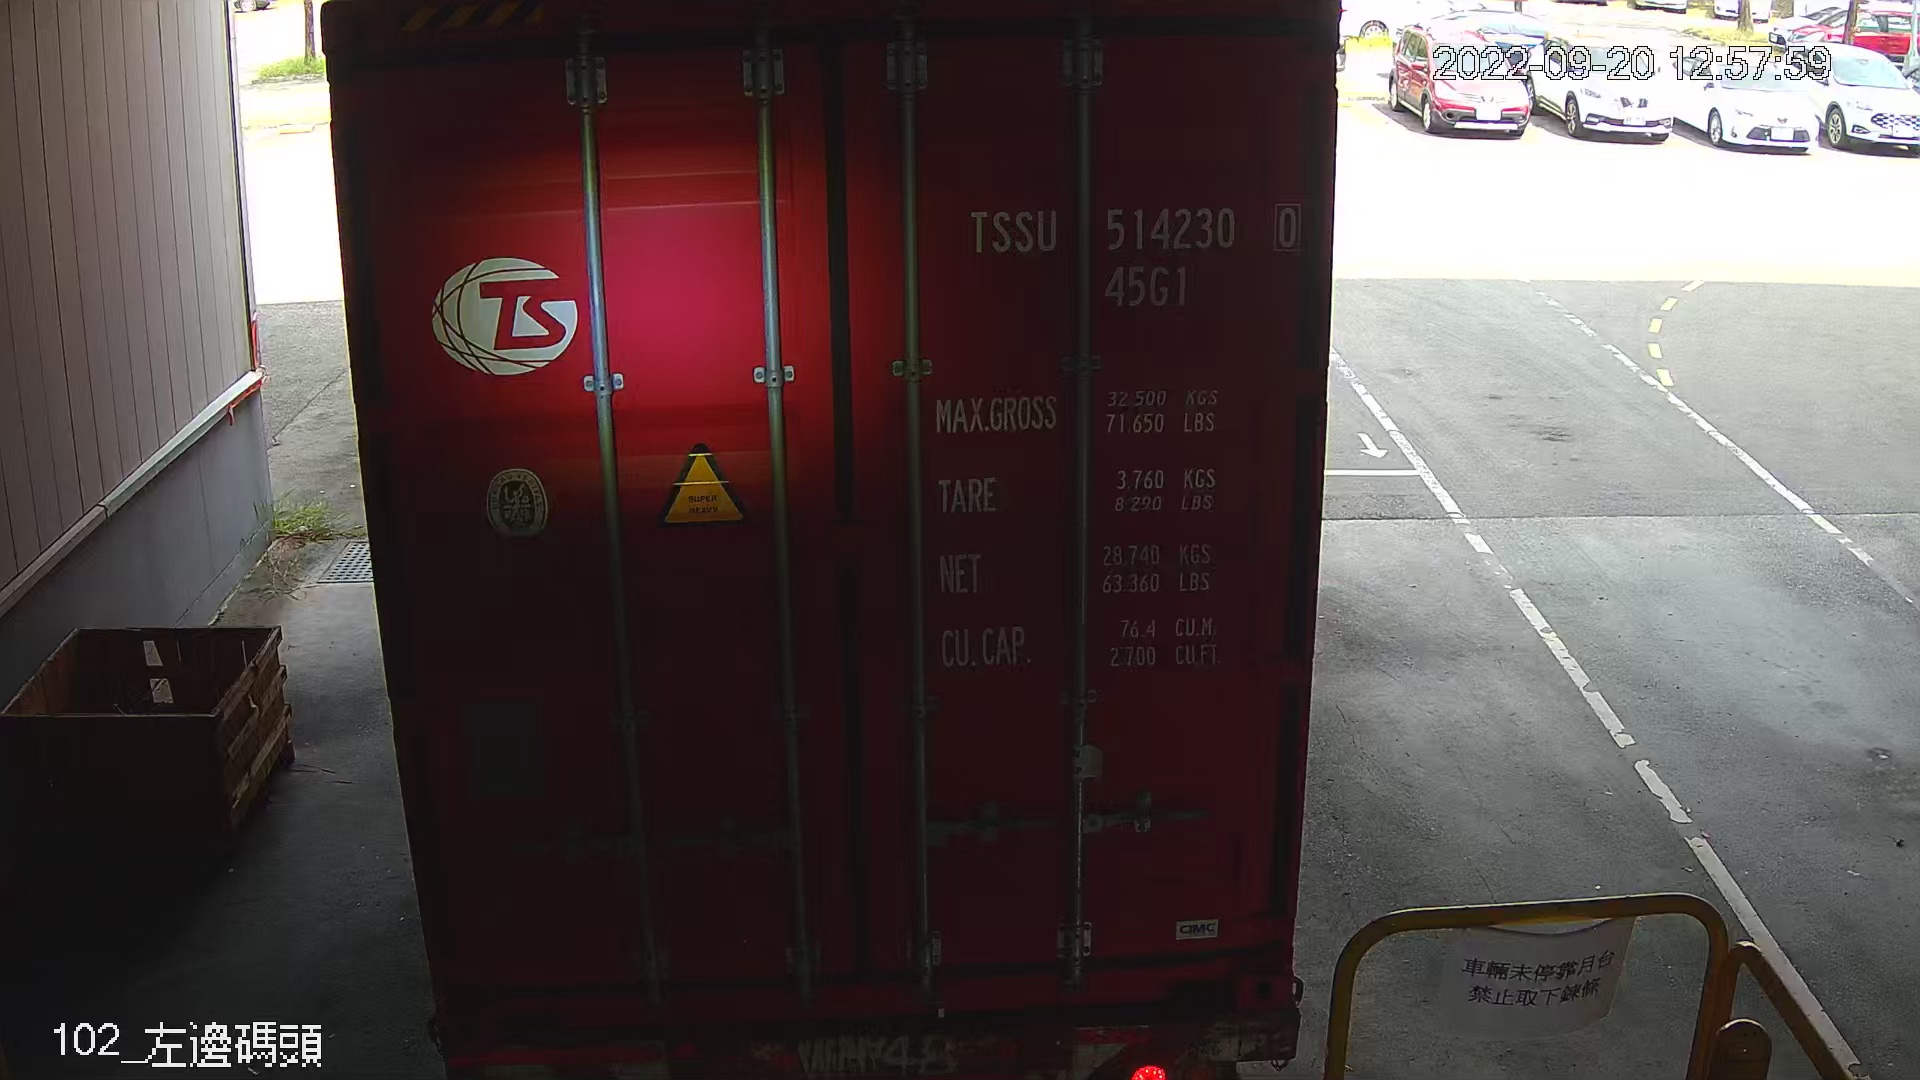container: (953, 193, 1313, 316)
